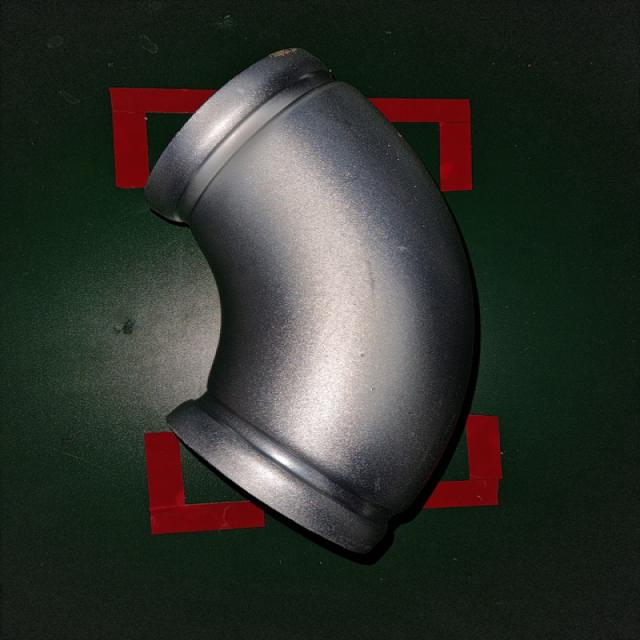Normal: (134, 39, 490, 566)
